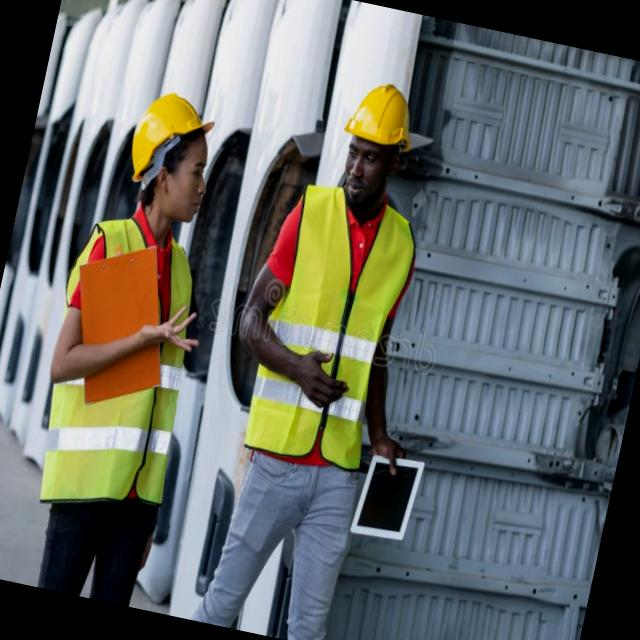helmet: (115, 78, 222, 212), (342, 74, 420, 162)
no-goggles: (148, 140, 211, 202), (338, 132, 403, 178)
vest: (22, 205, 216, 532), (229, 176, 431, 481)
